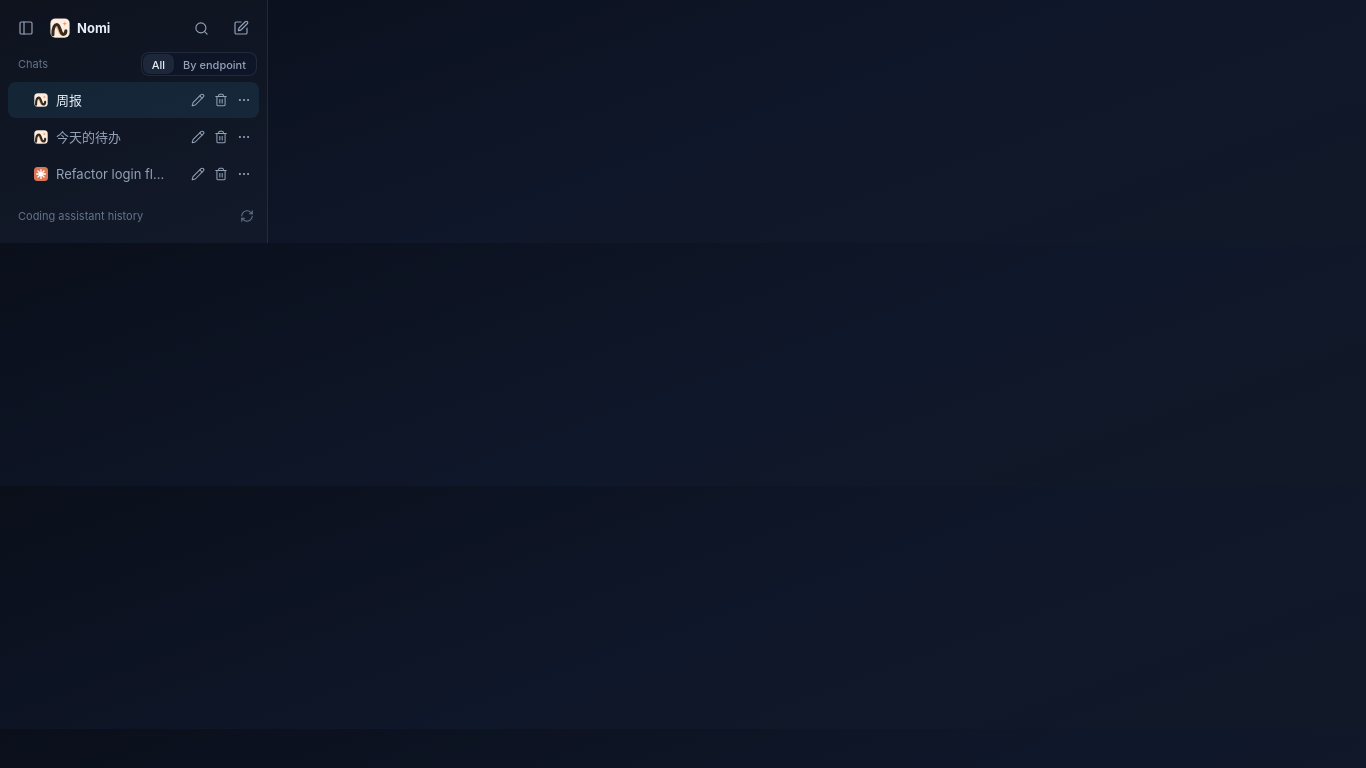
Test: sidebar row actions › "more" opens the shared conversation menu on demand (same as right click)
Click the 2nd button with test id "row-more": click(244, 137) [233,126,255,148]
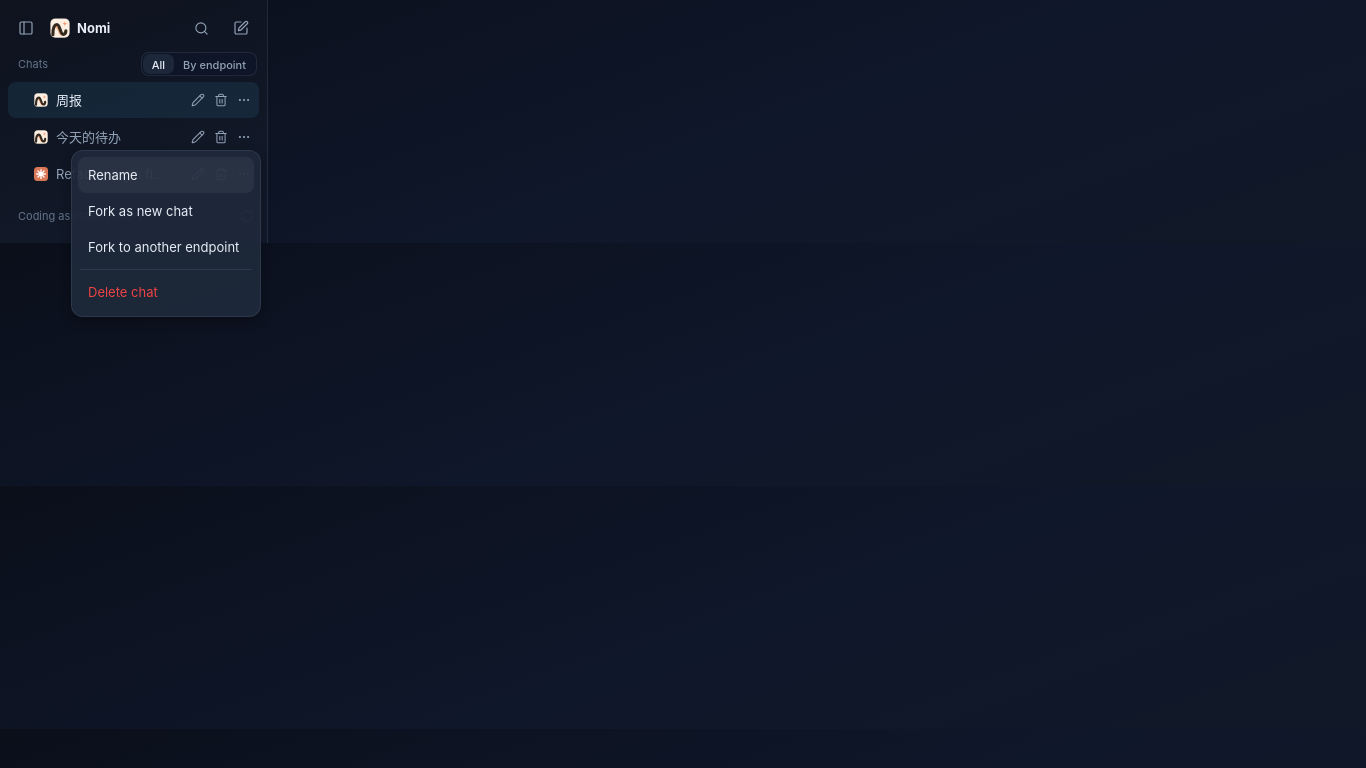
Check: the menu item with test id "fork-same" is shown
Check: the menu item with test id "fork-cross" is shown, box [78,229,254,265]
Check: the menu item with test id "conversation-delete" is shown, box [78,274,254,310]
Click the menu item with test id "fork-same": click(166, 211) [78,193,254,229]
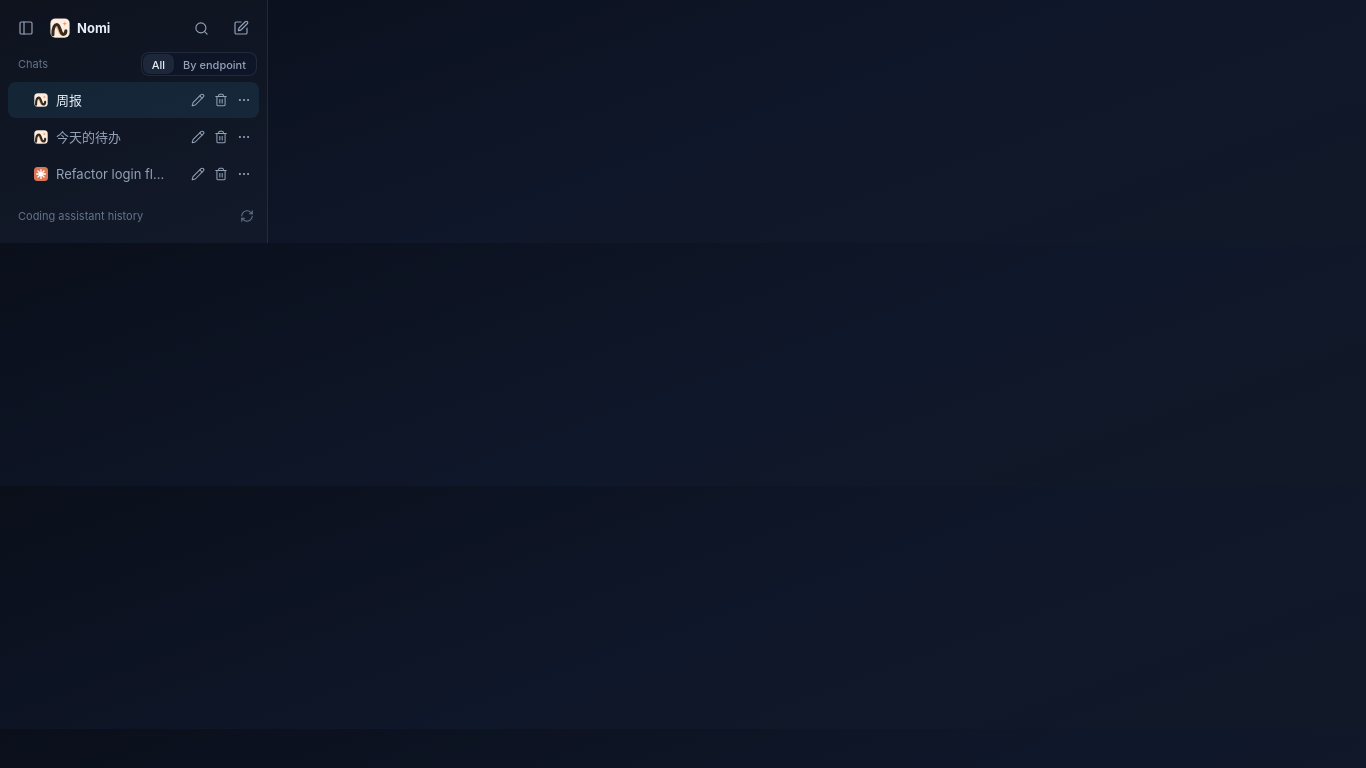
Check: the menu with test id "conversation-context-menu" is gone
// 右键得到同一份菜单
Right-click the button with test id "history-item" showing "Refactor login flow": (134, 174) [8,156,259,192]
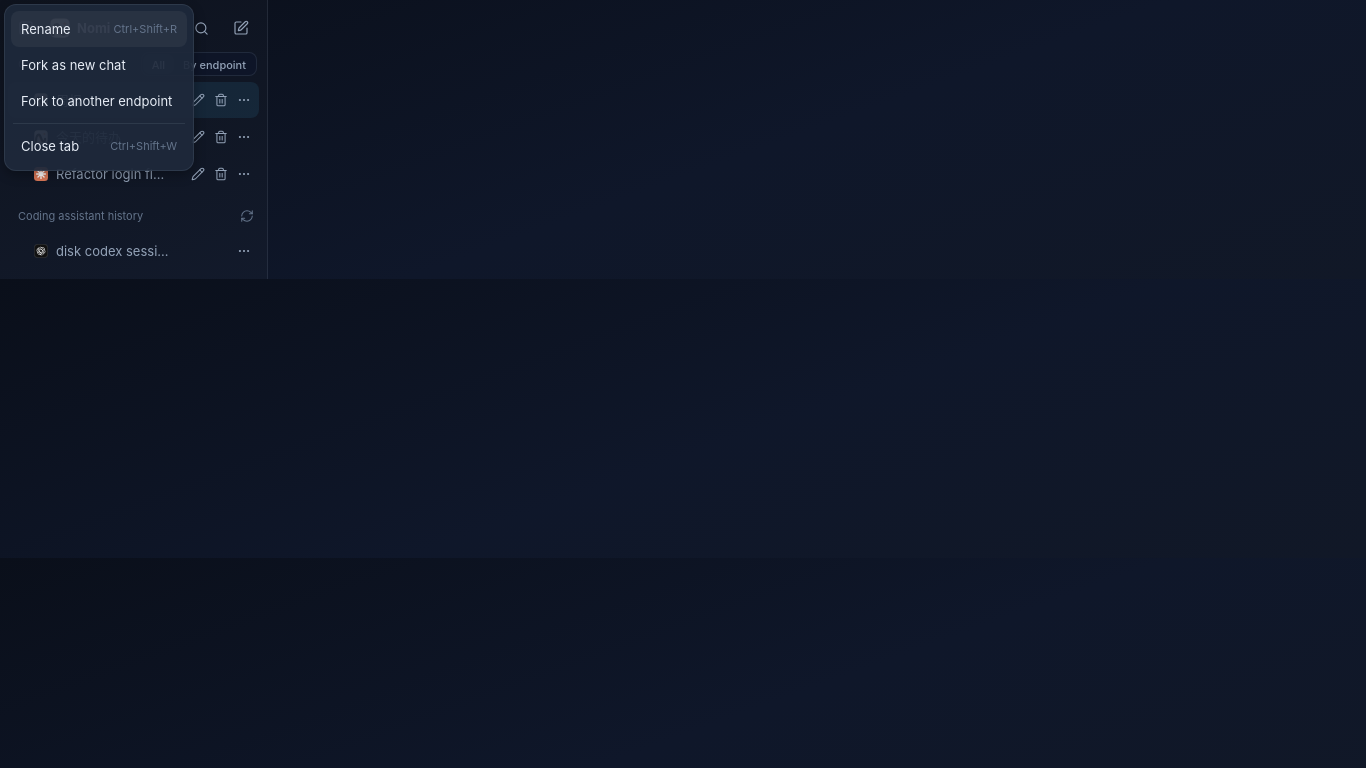
Check: the menu item with test id "conversation-close" is shown, box [11,128,187,164]
